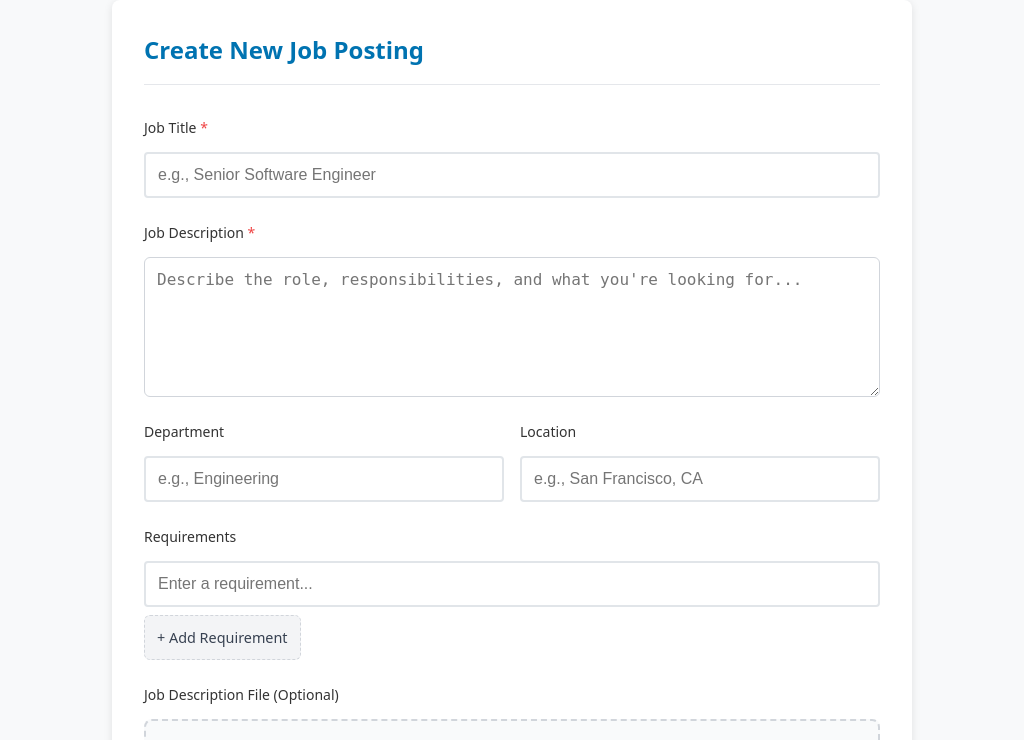
Test case: JobPostingForm › handles requirements management
The width and height of the screenshot is (1024, 740).
Note: Initial requirement input should be present
Type "JavaScript experience" into the field with placeholder "Enter a requirement...". click: (512, 584)
box: [144,561,880,607]
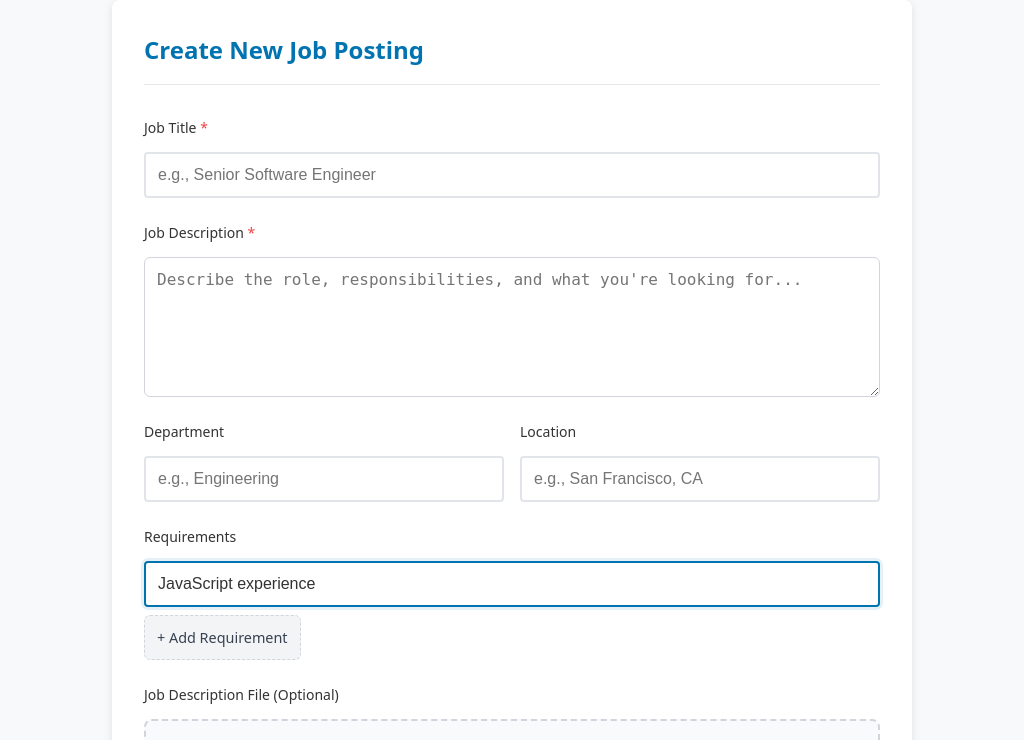
Note: Add another requirement
Click the button "+ Add Requirement". click: (222, 638)
box: [144,615,301,660]
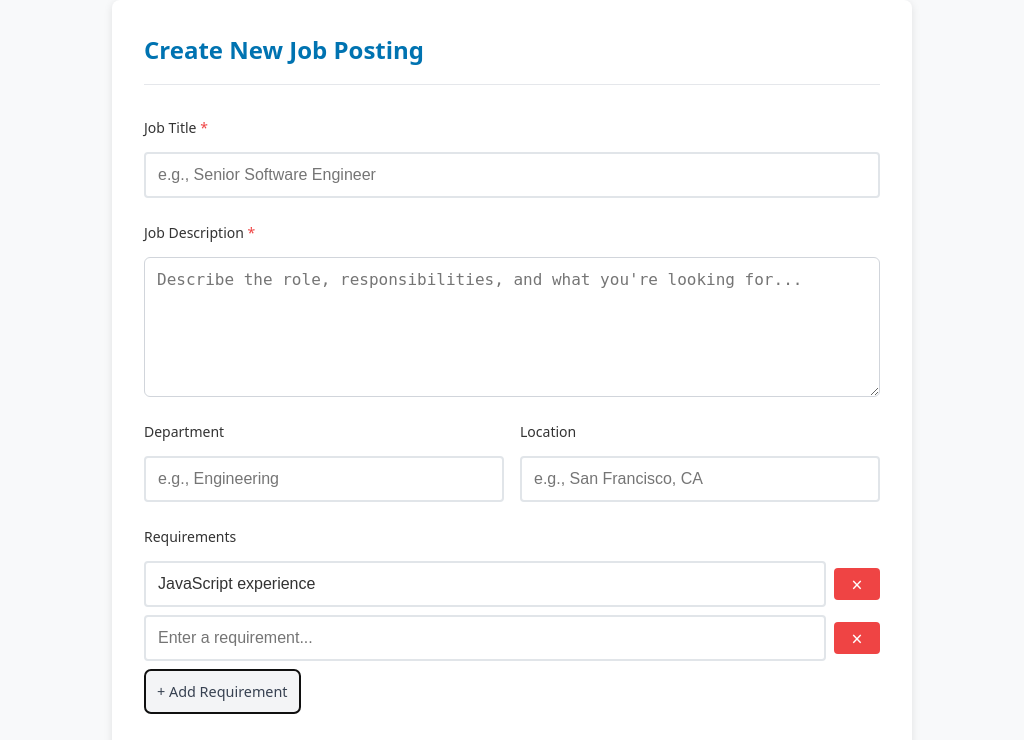
expect the number of fields with placeholder "Enter a requirement..." is 2: met
Type "React knowledge" into the field with placeholder "Enter a requirement...". click: (485, 638)
box: [144,615,826,661]
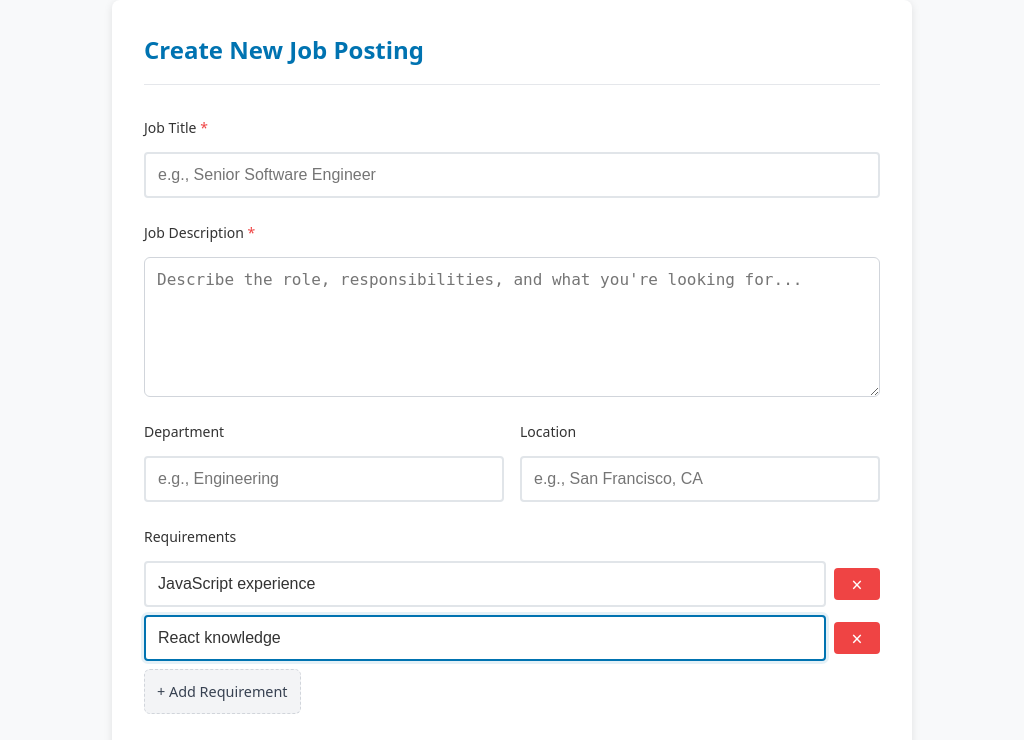
expect the number of buttons "×" is 2: met
Click the 1st button "×". click: (857, 584)
box: [834,568,880,600]
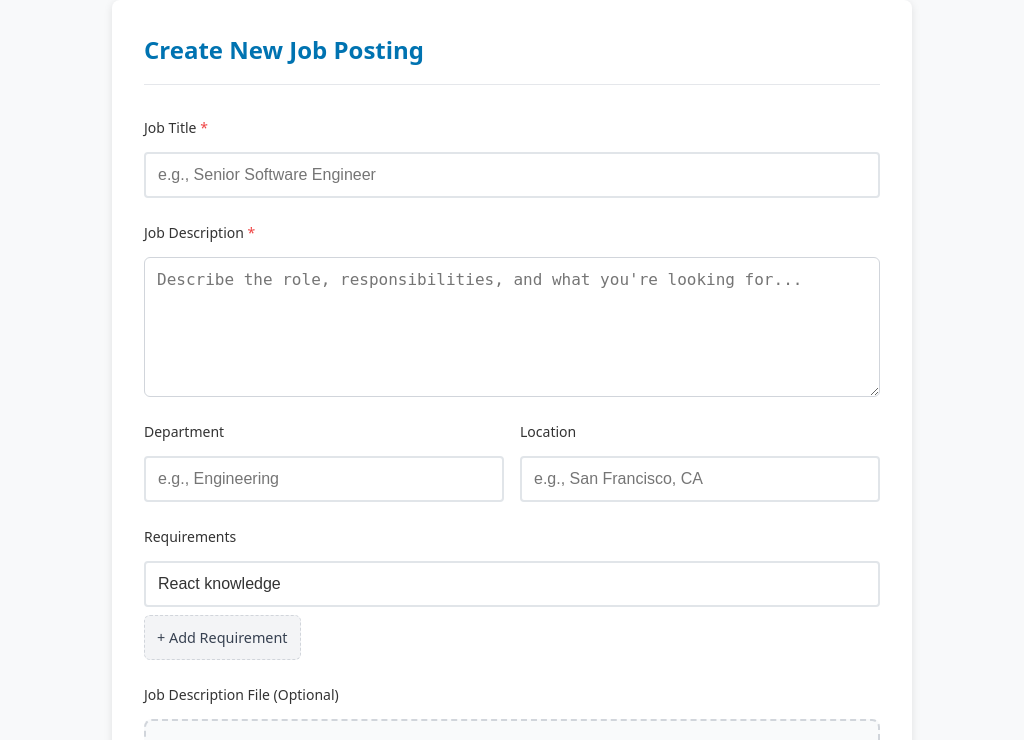
expect the number of fields with placeholder "Enter a requirement..." is 1: met, box [144,561,880,607]
